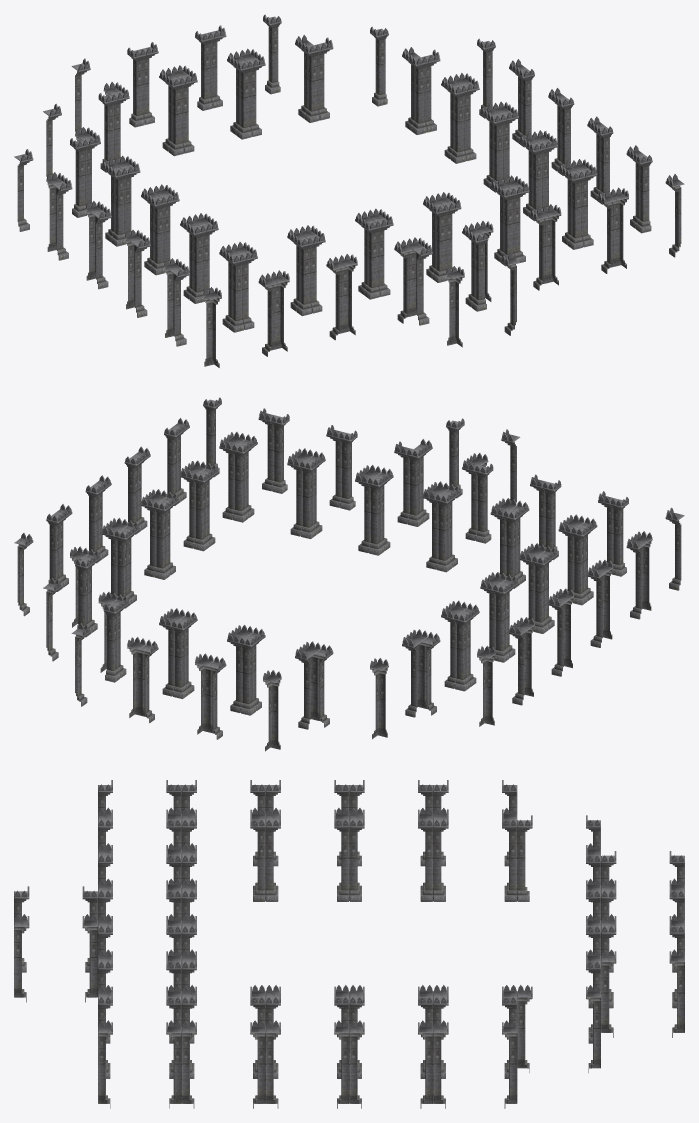
File: Column3_MDL.fbx
The picture shows the model from 3 angles, top to bottom: view 1: azimuth 30°, elevation 25°; view 2: azimuth 150°, elevation 25°; view 3: azimuth 270°, elevation 25°; orthographic projection. The views are drawn at different scales.
Visible parts, largest first — view 1: TunnelBigDoorway.004; view 2: TunnelBigDoorway.004; view 3: TunnelBigDoorway.004.
Boxes of the visible parts, x1,y1,x2,y2 form: TunnelBigDoorway.004: (14, 14, 684, 367); TunnelBigDoorway.004: (14, 397, 684, 751); TunnelBigDoorway.004: (14, 780, 684, 1108).
Size of the model in its own units: 3500 by 544 by 4000.
